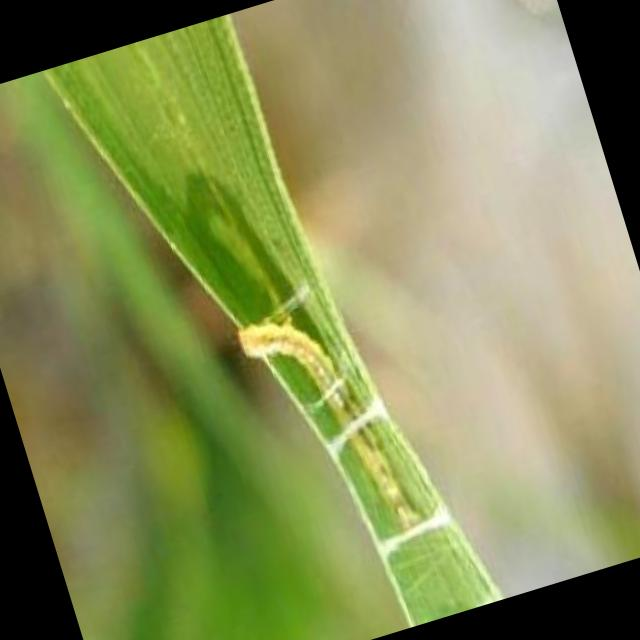leaf-folder: (199, 249, 493, 569)
